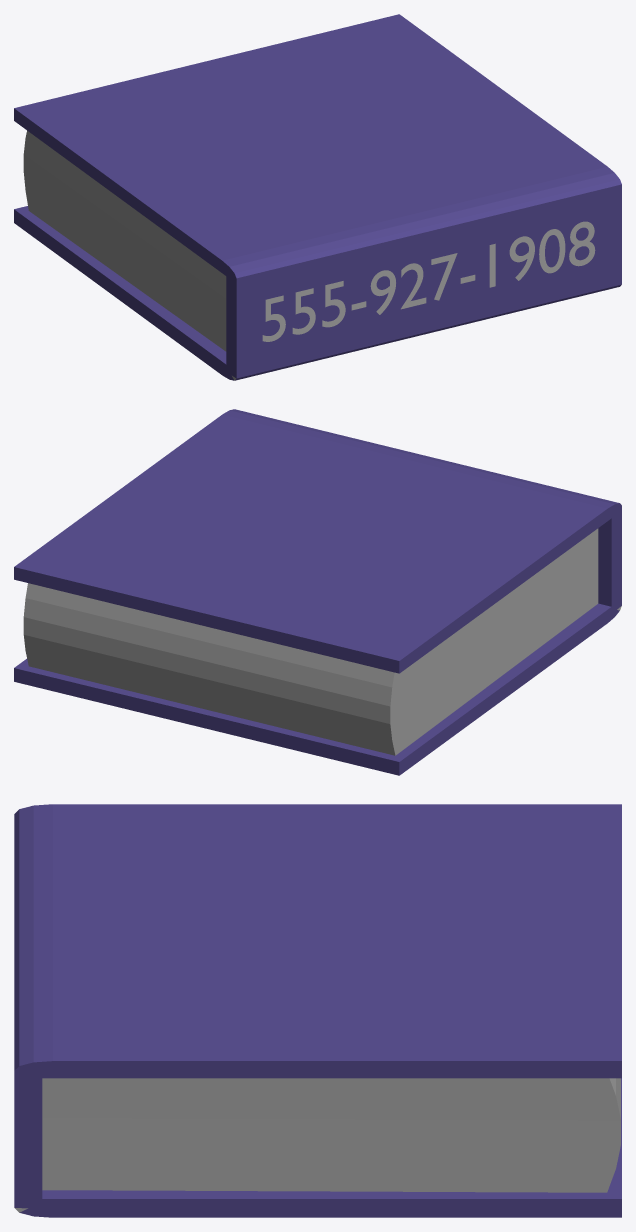
File: PurpleClueBook.glb
The picture shows the model from 3 angles, top to bottom: view 1: azimuth 30°, elevation 25°; view 2: azimuth 150°, elevation 25°; view 3: azimuth 270°, elevation 25°; orthographic projection. The views are drawn at different scales.
Parts seen in each view (by area): view 1: Cube, Text; view 2: Cube; view 3: Cube.
Boxes of the visible parts, <box> form: Cube: <box>14,14,621,380</box>; Text: <box>262,221,595,341</box>; Cube: <box>14,409,621,775</box>; Cube: <box>14,804,621,1217</box>.
Size of the model in its own units: 0.7634 by 0.2172 by 0.7636.
